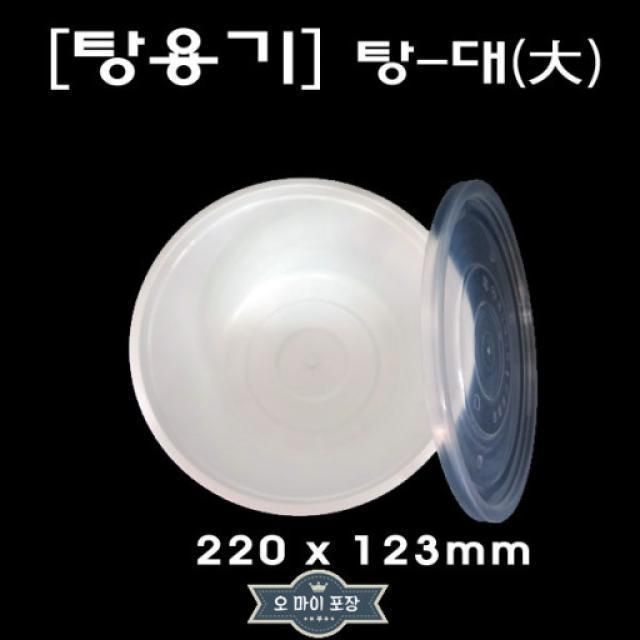disposable: (110, 166, 492, 528)
